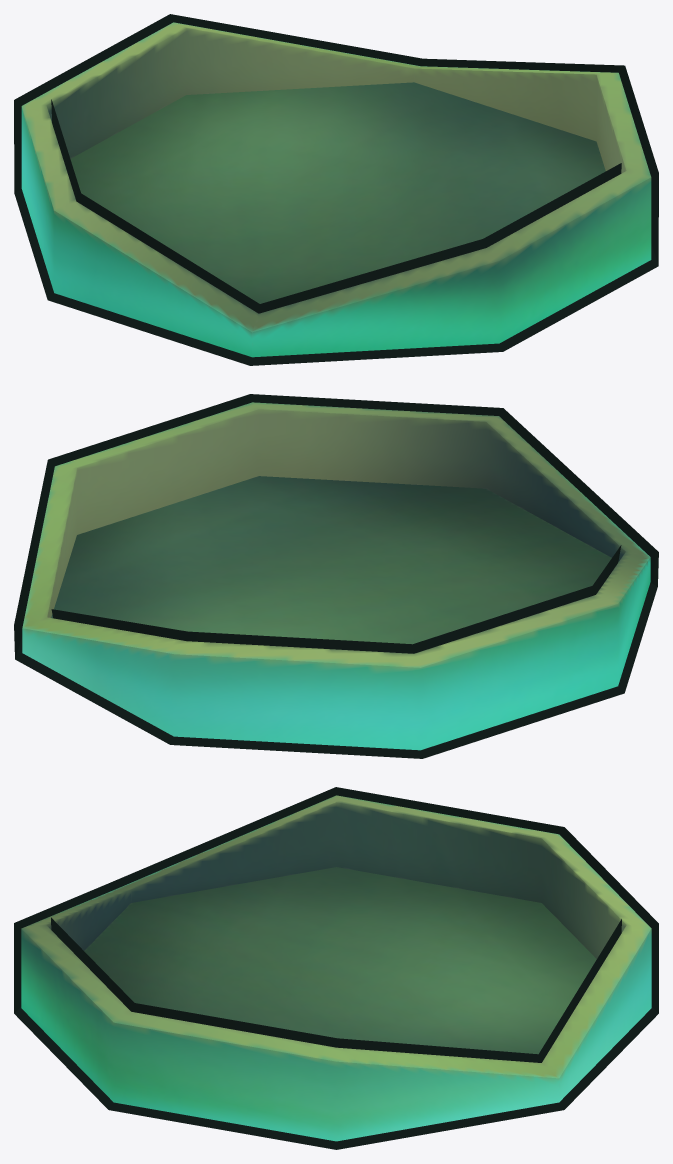
File: Lily01.gltf
3 views of the same model, one above another, from view 1: azimuth 30°, elevation 25°; view 2: azimuth 150°, elevation 25°; view 3: azimuth 270°, elevation 25° (orthographic). The views are drawn at different scales.
Visible parts, largest first — view 1: Circle.031_TT_checker_4_0.001, Circle.031_Line art Green _0.001; view 2: Circle.031_TT_checker_4_0.001, Circle.031_Line art Green _0.001; view 3: Circle.031_TT_checker_4_0.001, Circle.031_Line art Green _0.001.
Boxes of the visible parts, x1,y1,x2,y2 form: Circle.031_TT_checker_4_0.001: [21, 22, 651, 357]; Circle.031_Line art Green _0.001: [14, 14, 658, 365]; Circle.031_TT_checker_4_0.001: [22, 402, 650, 750]; Circle.031_Line art Green _0.001: [14, 394, 658, 758]; Circle.031_TT_checker_4_0.001: [21, 795, 651, 1141]; Circle.031_Line art Green _0.001: [14, 787, 658, 1149].
Bounding box in the file's own units: 1.08 × 0.1777 × 1.08.
2 materials, 1 textured.
